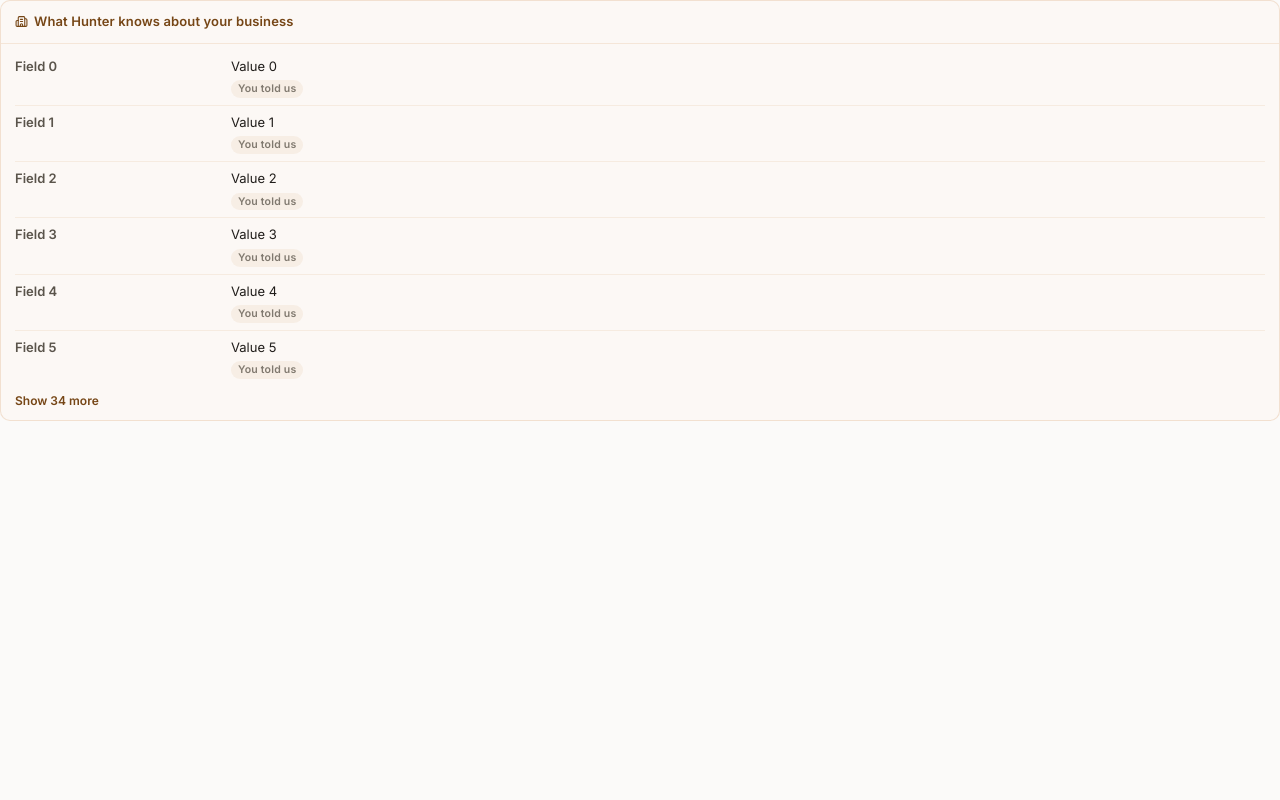
Test: ProfileArtifact › states how many values it did not show, from the server and from its own bound
What coordinates should you click on to do the following:
click the button "Show 34 more"
I would click on:
 (57, 401)
Its box is [15,392,99,410].
(page scrolled)
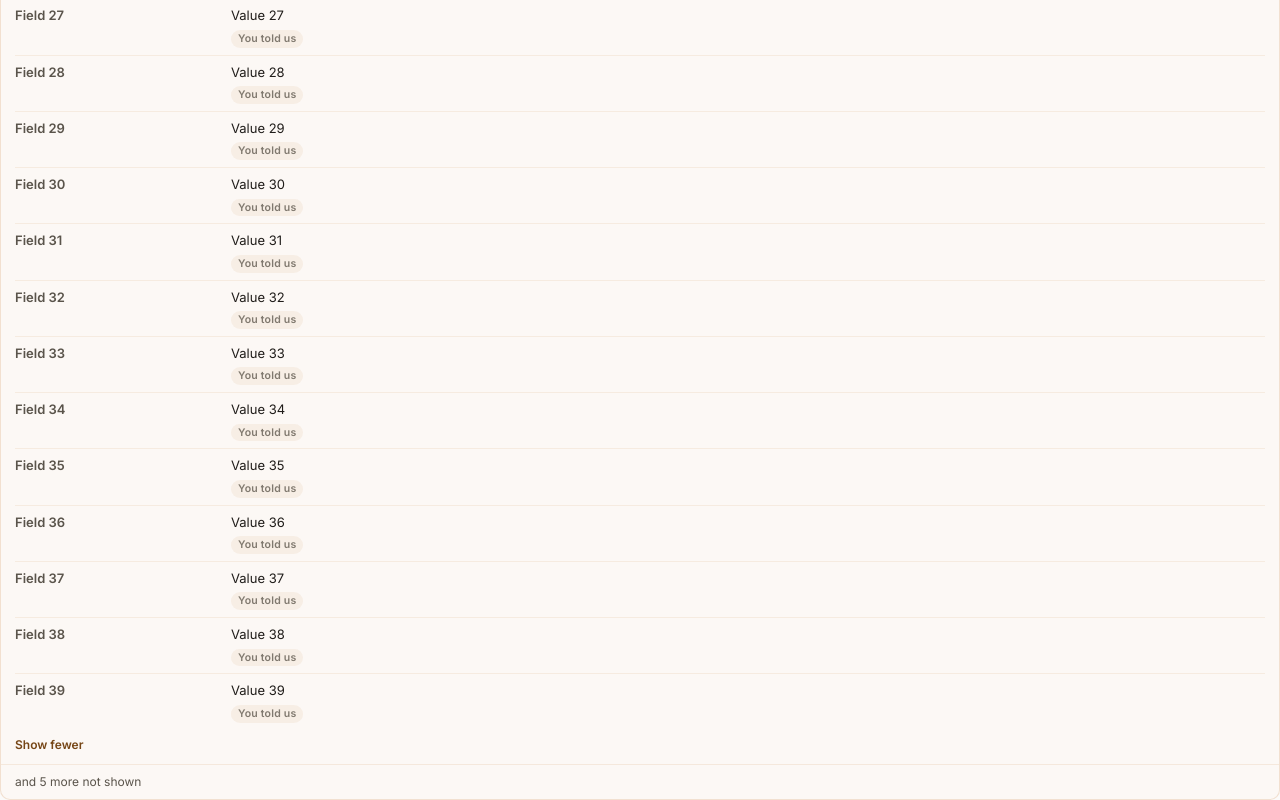
Expected: the text with class "hunter-profile__more" reads "and 5 more not shown", [1,764,1279,798]
